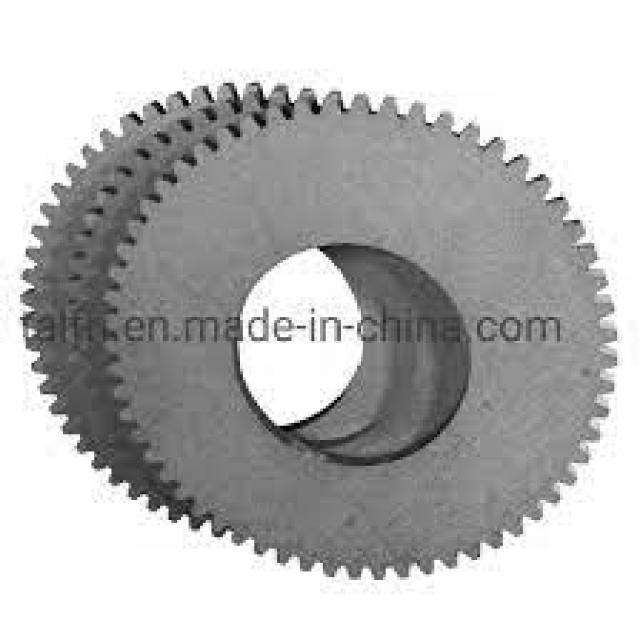No Fault: (16, 33, 623, 614), (19, 97, 264, 557)
